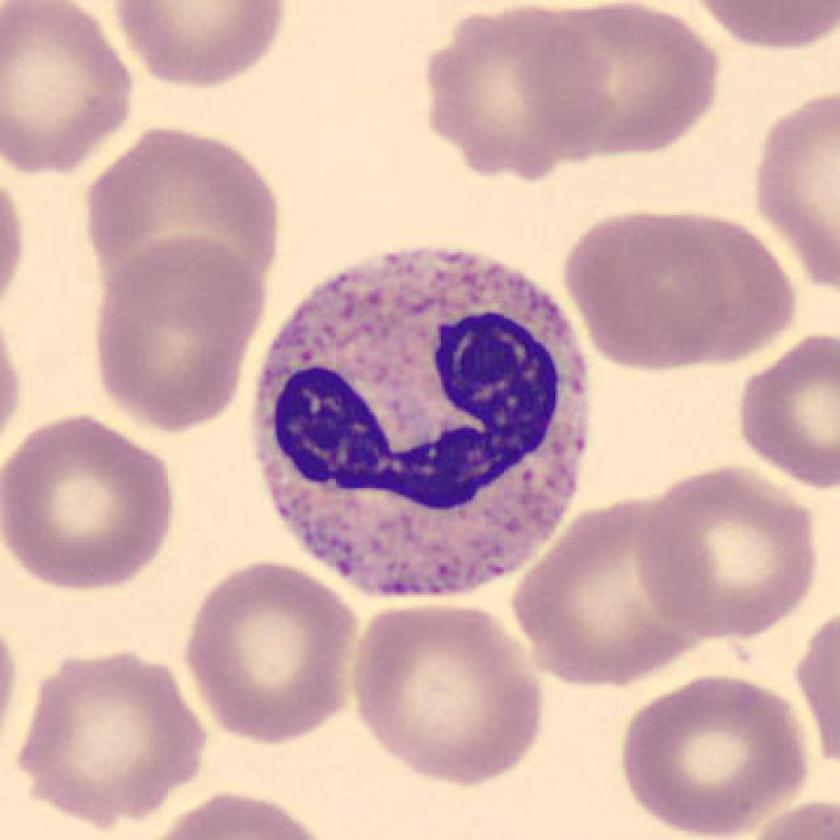neutrophil: (252, 245, 588, 602)
